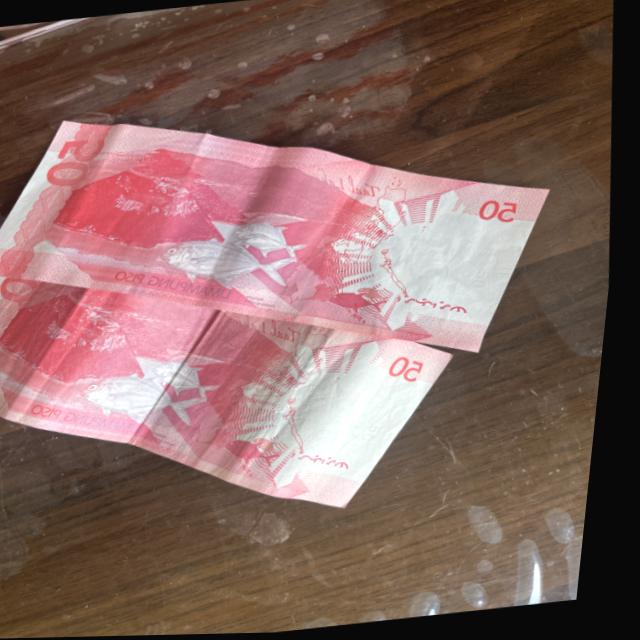50_maliputo: (148, 206, 323, 306), (70, 342, 244, 437)
50_maliputo_watermark: (330, 282, 402, 324), (228, 432, 299, 473)
value_watermark: (363, 414, 413, 451), (470, 260, 501, 299)
watermark: (383, 200, 530, 325)
